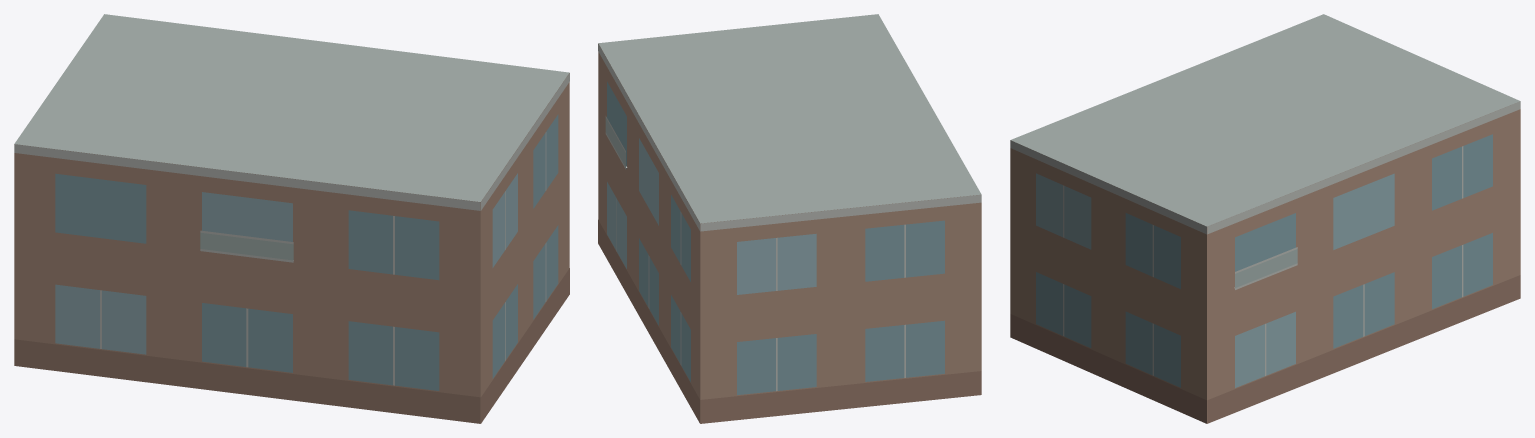
Rendered from survey-upis-32855480.glb.
3 renders of one model, left to right at view 1: azimuth 30°, elevation 25°; view 2: azimuth 150°, elevation 25°; view 3: azimuth 270°, elevation 25°, orthographic. The views are drawn at different scales.
Parts seen in each view (by area): view 1: survey-upis-32855480.tmp; view 2: survey-upis-32855480.tmp; view 3: survey-upis-32855480.tmp.
Part boxes in pixels (x1=…): survey-upis-32855480.tmp: x1=14, y1=14, x2=569, y2=423; survey-upis-32855480.tmp: x1=598, y1=14, x2=981, y2=423; survey-upis-32855480.tmp: x1=1010, y1=14, x2=1520, y2=423.
Bounding box in the file's own units: 14.11 × 6.1 × 14.31.
